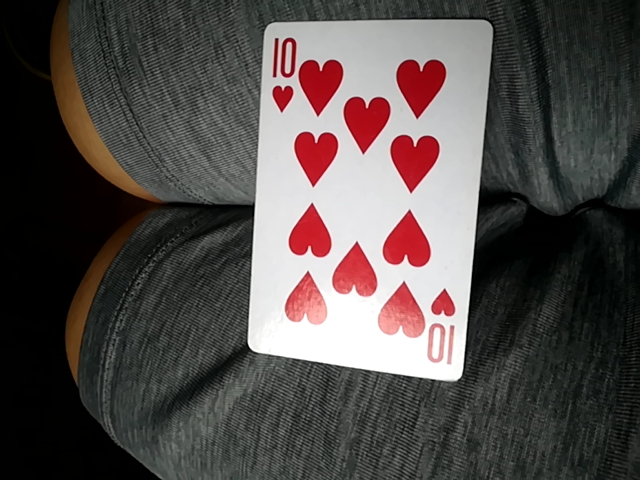hx 10: (250, 13, 485, 391)
